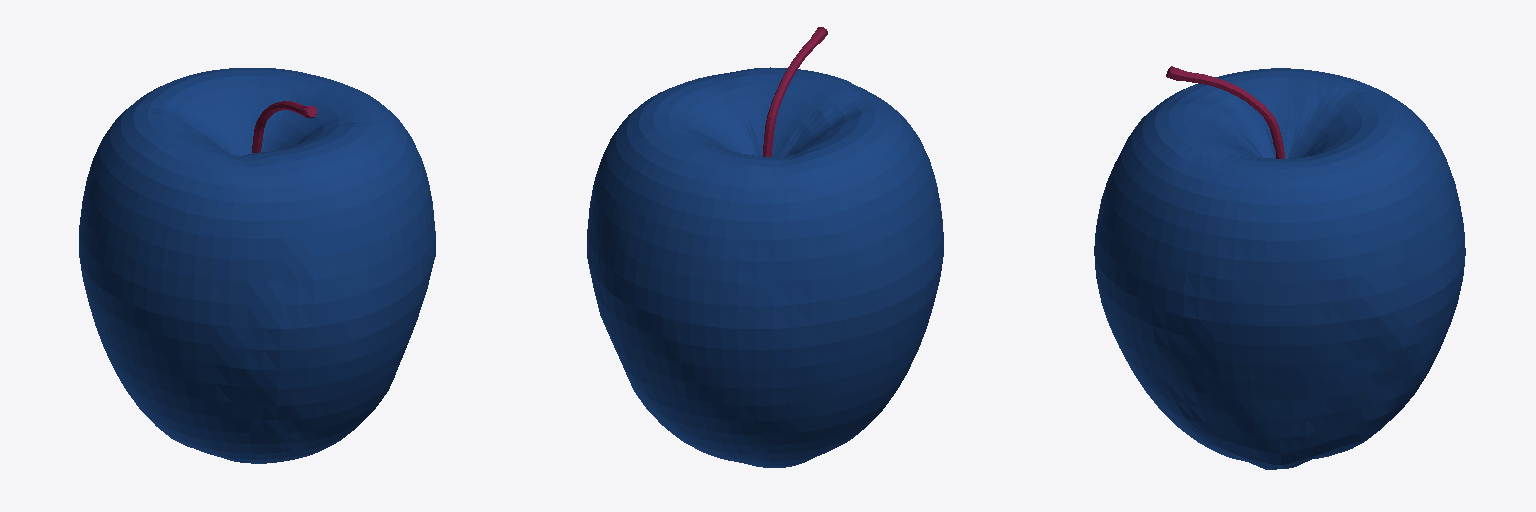
The model's file is apple.obj.
3 renders of one model, left to right at view 1: azimuth 30°, elevation 25°; view 2: azimuth 150°, elevation 25°; view 3: azimuth 270°, elevation 25°, orthographic.
Bounding box in the file's own units: 0.236 × 0.28 × 0.2489.